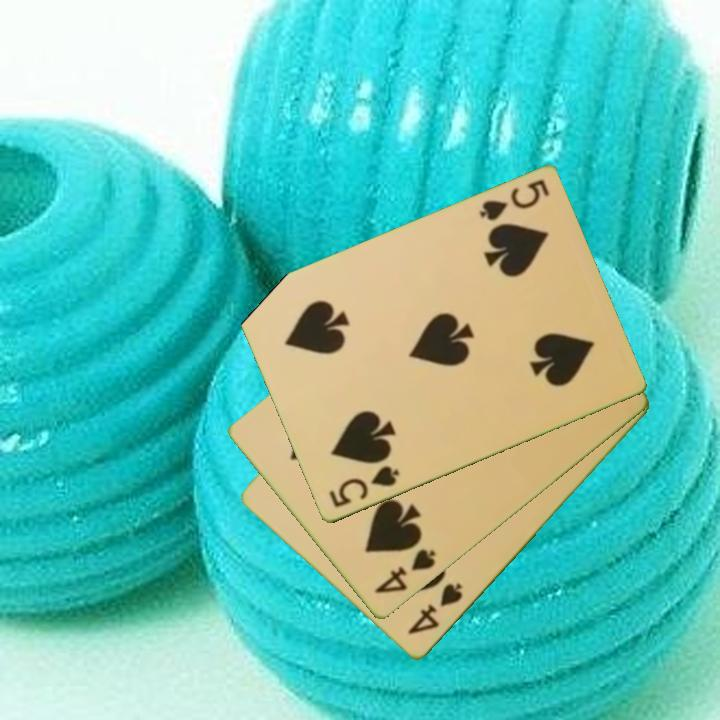4s: (404, 580, 466, 639), (371, 546, 439, 597)
5s: (325, 462, 402, 511), (475, 176, 552, 225)
